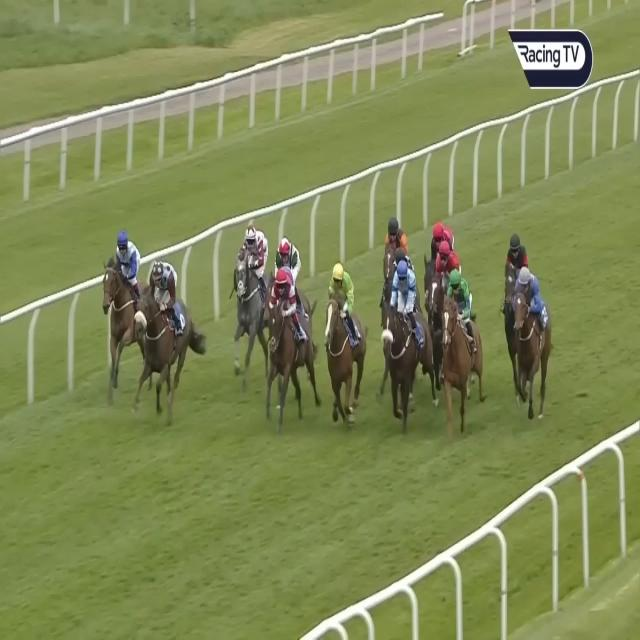horses-racing: (135, 262, 201, 413), (260, 270, 316, 426), (381, 259, 432, 410), (97, 225, 144, 365), (324, 264, 366, 416), (512, 268, 549, 410), (440, 270, 473, 424), (233, 227, 266, 364), (428, 241, 470, 282), (272, 231, 302, 288), (503, 233, 527, 303), (425, 216, 458, 259), (386, 216, 406, 285)
